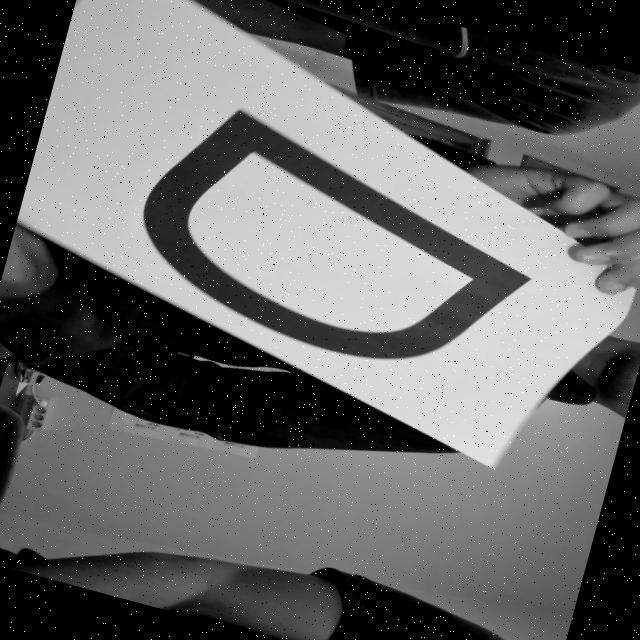d: (77, 73, 572, 420)
